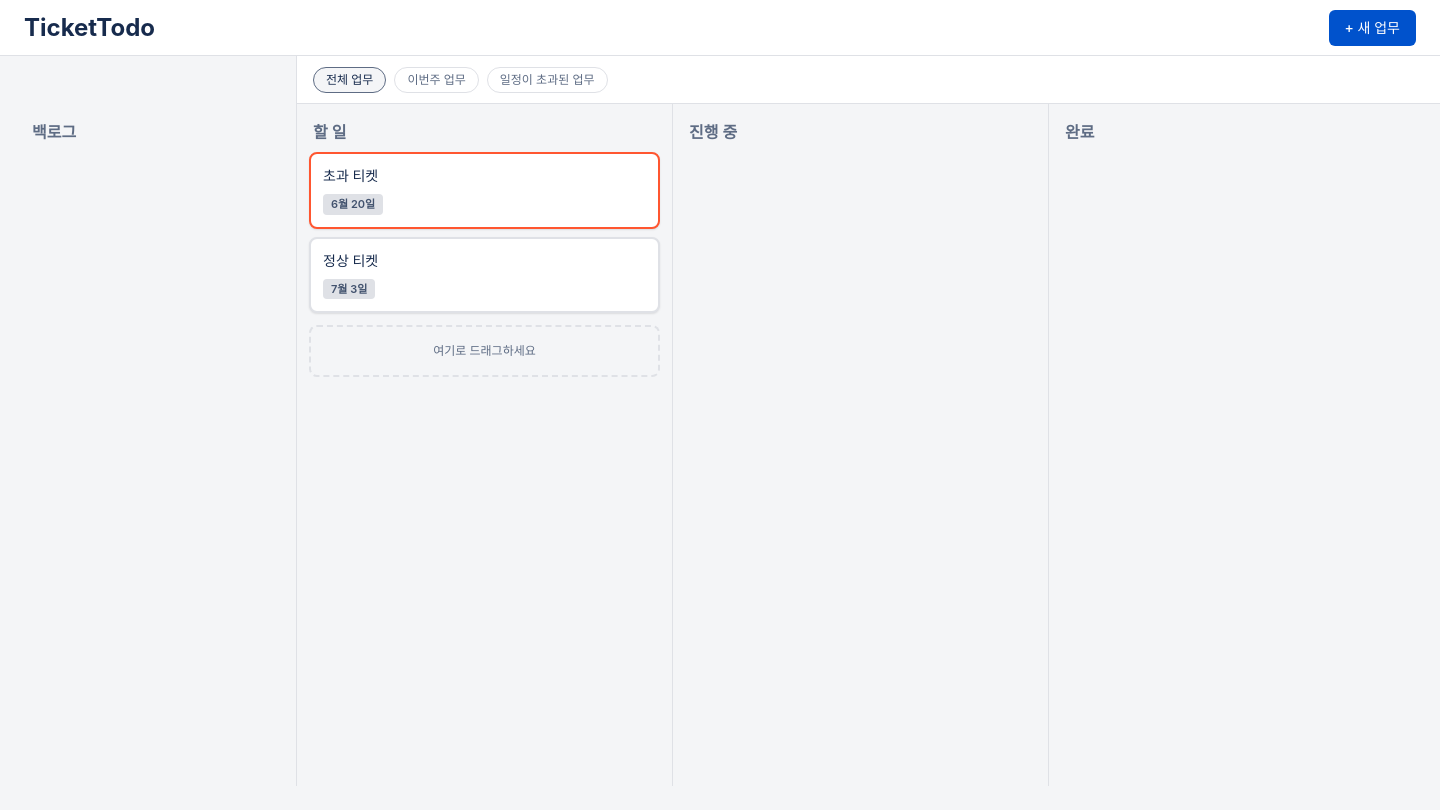
Test: Board — 필터 (FR-017, FR-018) › 필터 재토글(비활성화) → 전체 복원
This screenshot has width=1440, height=810.
Expected: the text "초과 티켓" is shown, [323,167,378,184]
Click the button "일정이 초과된 업무" at (547, 80), box [487,66,608,92]
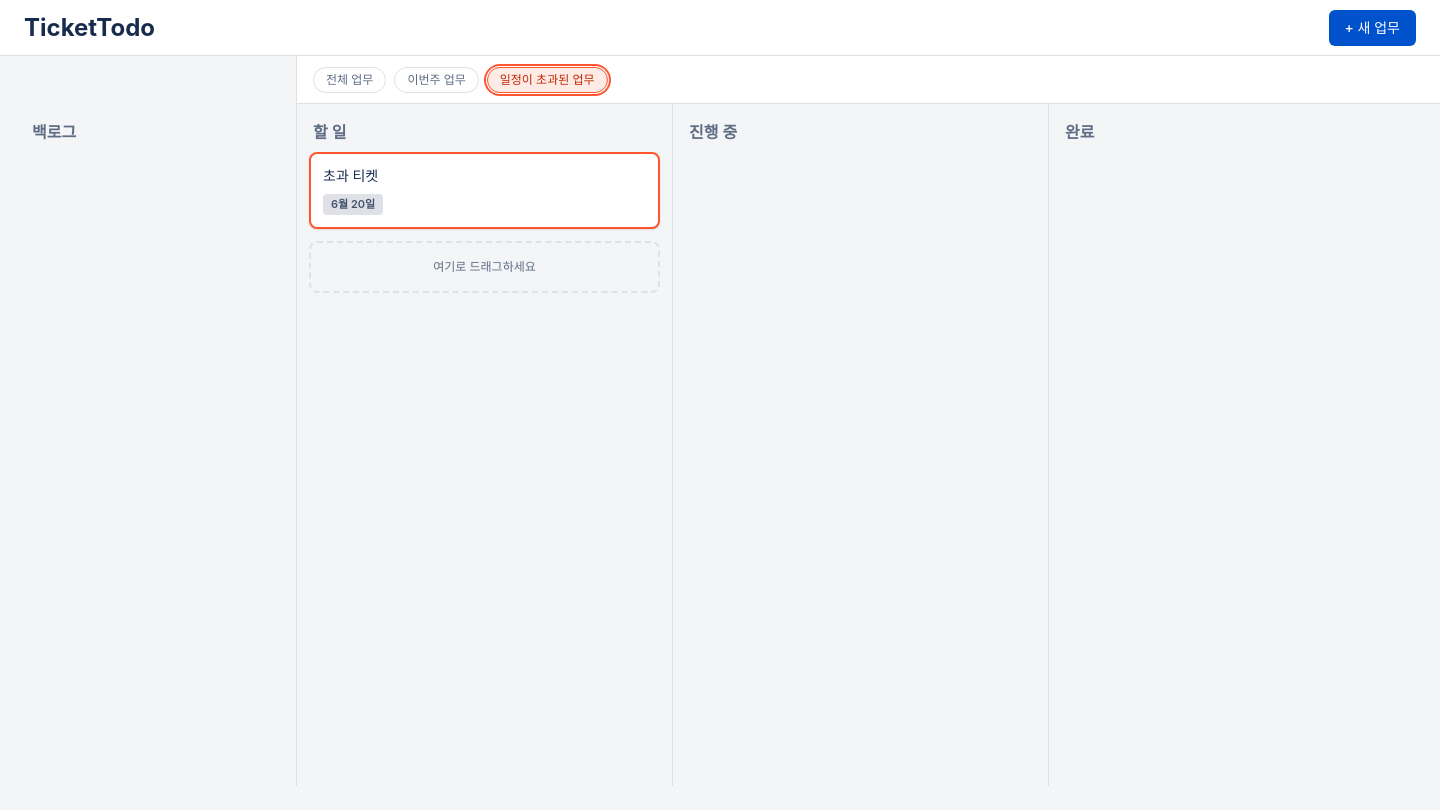
Click the button "일정이 초과된 업무" at (547, 80), box [487,66,608,92]
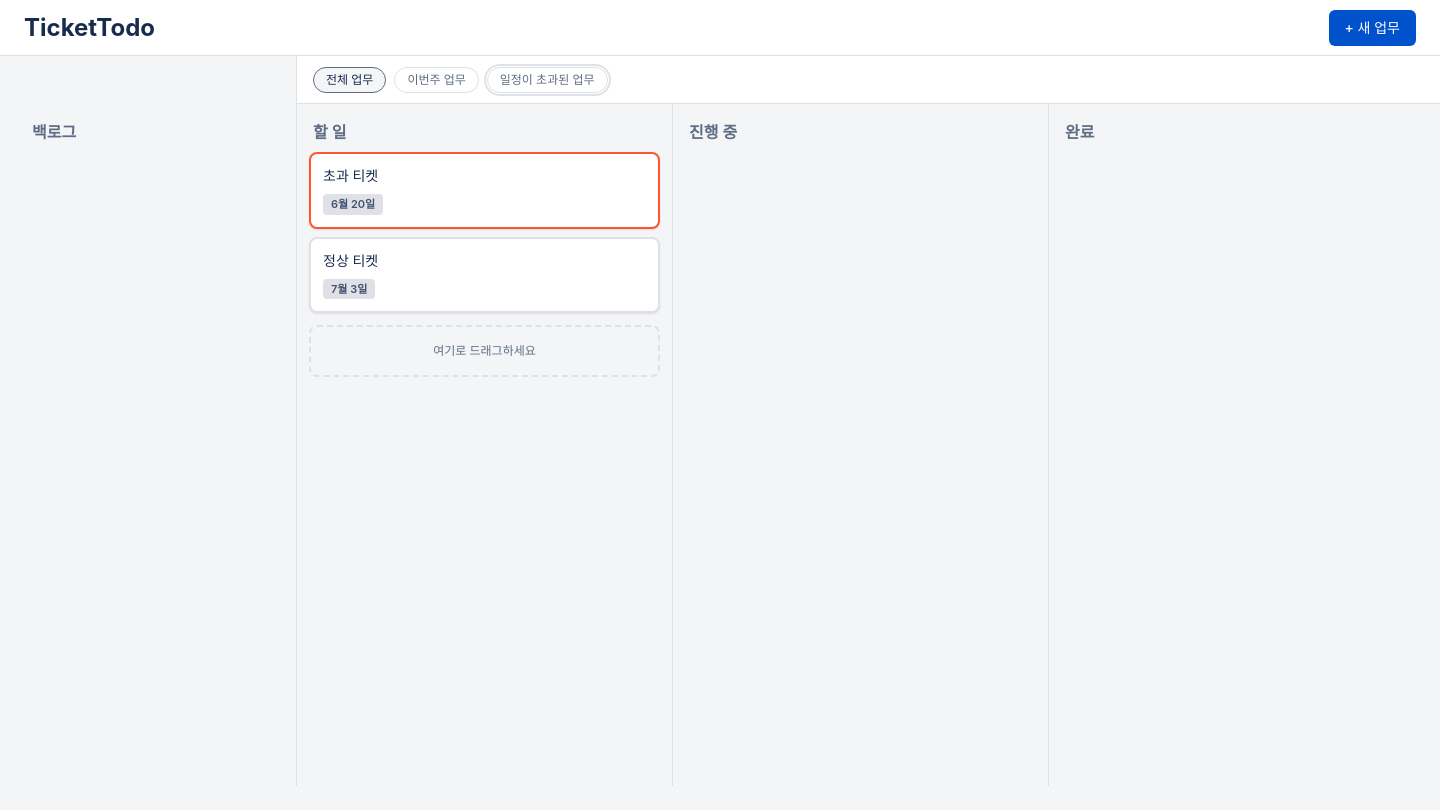
Expected: the text "정상 티켓" is shown, [323,252,378,268]
